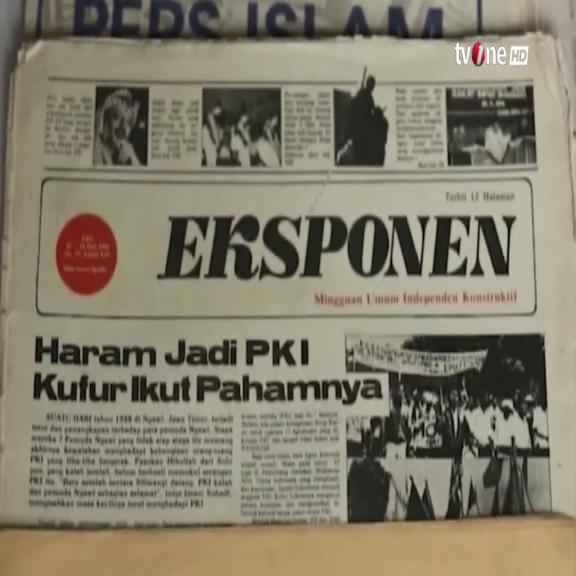Kertas: (0, 28, 569, 533)
